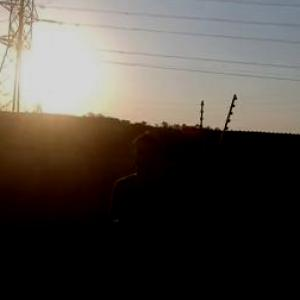follow: (100, 122, 187, 298)
